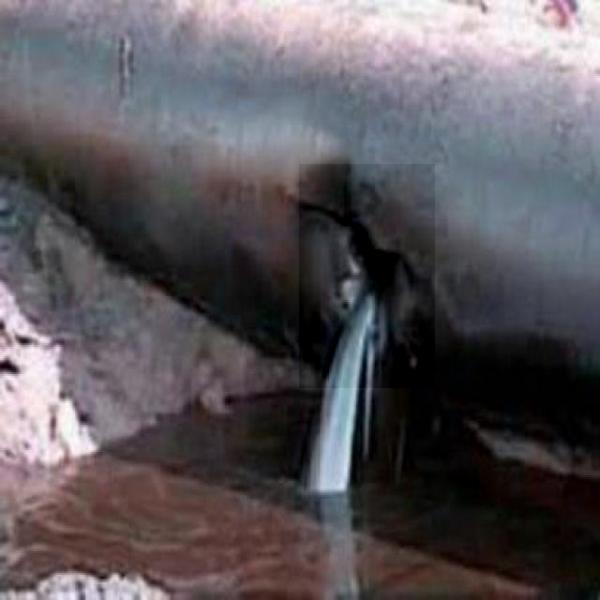pipe burst: (303, 207, 425, 494)
water accumulation: (0, 383, 600, 600)
